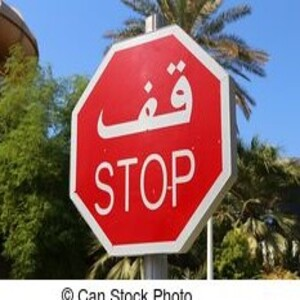stop: (70, 24, 239, 253)
